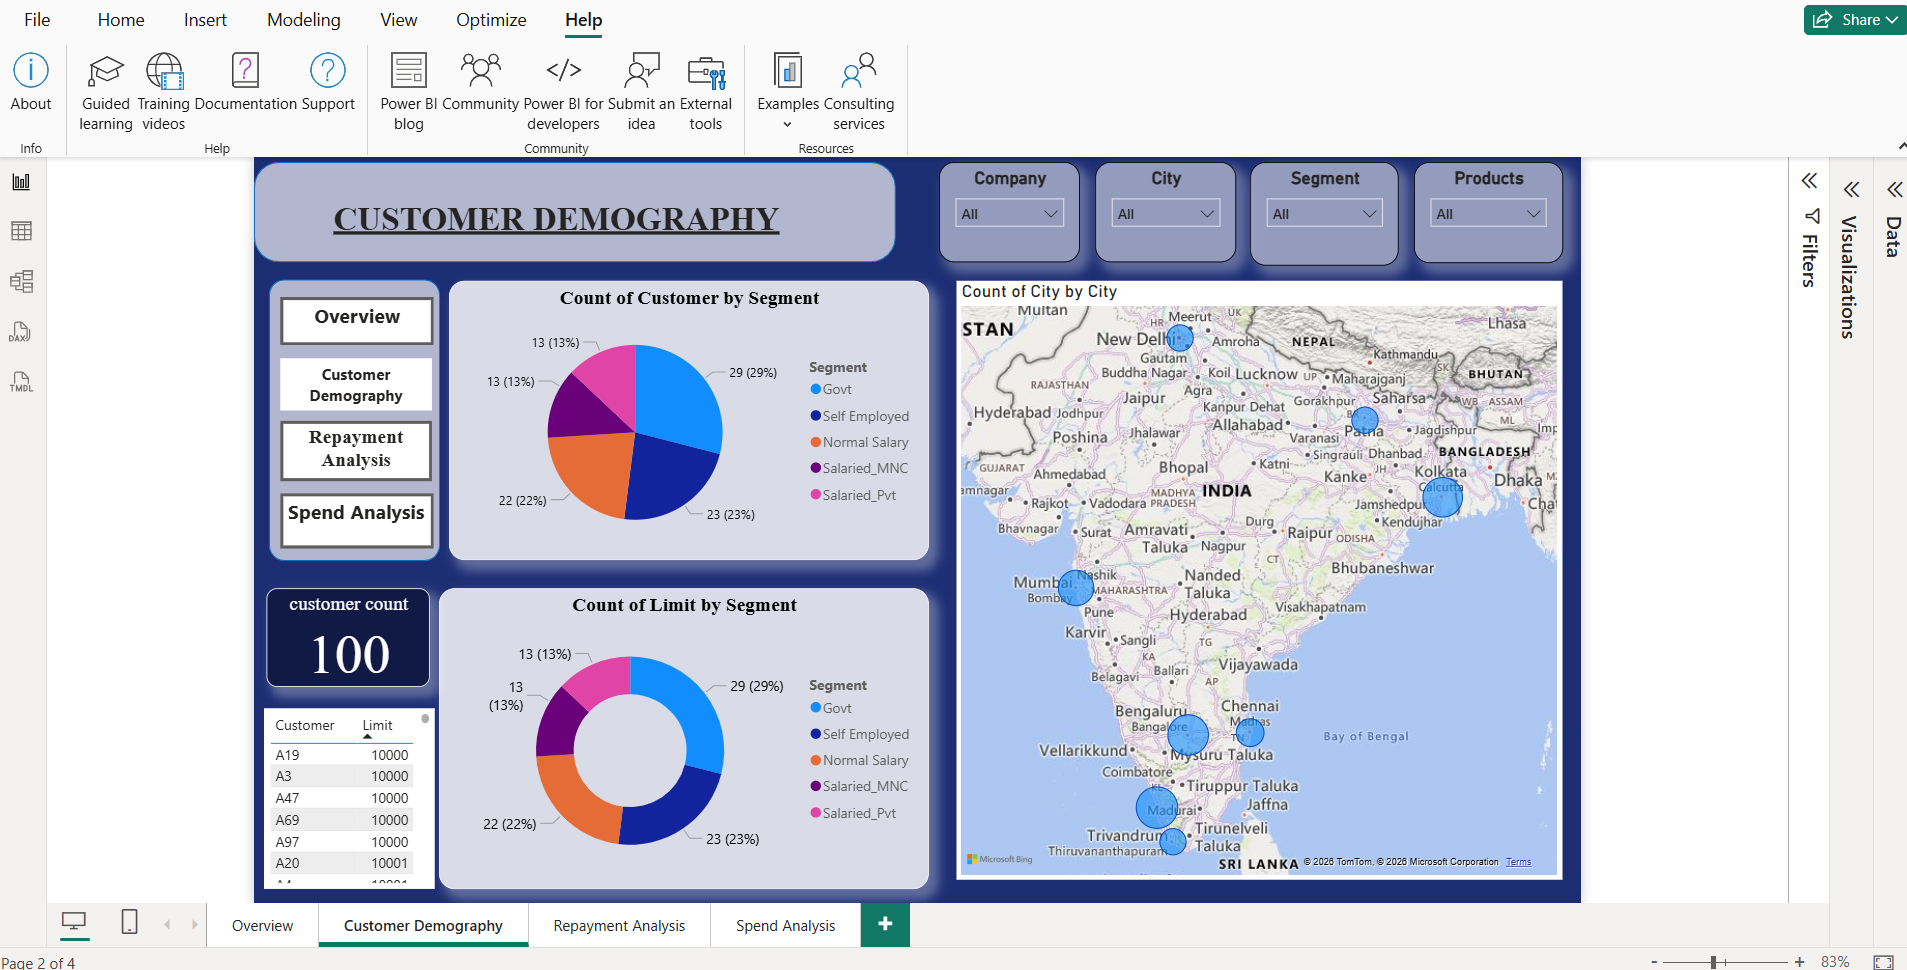

The dashboard page shown, as its layout file describes it:
{"tool":"powerbi","page":{"name":"Customer Demography","canvas":[1280,720],"ordinal":1},"visuals":[{"type":"slicer","title":"Segment","fields":{"Values":["Customer Acqusition.Segment"]},"box":[980.6,4.8,124.2,100],"z":0},{"type":"slicer","title":"Products","fields":{"Values":["Customer Acqusition.Product"]},"box":[1120,5,143.8,97.5],"z":1000},{"type":"card","title":"customer count","fields":{"Values":["Customer Acqusition.customer_count"]},"box":[12.1,416.4,157.5,95.4],"z":2000},{"type":"donutChart","fields":{"Y":["CountNonNull(Customer Acqusition.Limit)"],"Category":["Customer Acqusition.Segment"]},"box":[179,416.1,472.6,290.3],"z":3000},{"type":"shape","box":[0,4.8,619.4,96.8],"z":5000},{"type":"textbox","box":[0,17.7,583.9,71],"z":6000},{"type":"pieChart","fields":{"Category":["Customer Acqusition.Segment"],"Y":["CountNonNull(Customer Acqusition.Customer)"]},"box":[188.7,119.4,462.9,269.4],"z":7000},{"type":"shape","box":[15,118.3,165,271.7],"z":8000},{"type":"textbox","box":[25.1,194,146.5,50.7],"z":9000},{"type":"textbox","box":[25.1,254.6,146.5,57.7],"z":10000},{"type":"textbox","box":[25.3,324.9,146.9,53],"z":11000},{"type":"actionButton","box":[25,255,146.7,58.3],"z":12000},{"type":"textbox","box":[26.7,135,146.7,46.7],"z":13000},{"type":"actionButton","box":[25,325,148.3,53.3],"z":14000},{"type":"actionButton","box":[25,135,148.3,46.7],"z":15000},{"type":"slicer","title":"City","fields":{"Values":["Customer Acqusition.City"]},"box":[832.3,4.8,124.2,96.8],"z":16000},{"type":"tableEx","fields":{"Values":["Customer Acqusition.Customer","Customer Acqusition.Limit"]},"box":[9.1,531.5,165,174.1],"z":17000},{"type":"slicer","title":"Company","fields":{"Values":["Customer Acqusition.Company"]},"box":[691.9,4.8,124.2,96.8],"z":18000},{"type":"map","fields":{"Size":["CountNonNull(Customer Acqusition.City)"],"Category":["Customer Acqusition.City"]},"box":[692.5,119.4,570.6,522.4],"z":18001}]}

Visuals, with their boxes on the page's 1280x720 design canvas (x1, y1, x2, y2). These are canvas units, not pixel positions in the 1907x970 screenshot, which may show the page scaled, cropped or inside an application window:
"Segment" slicer: 981,5,1105,105
"Products" slicer: 1120,5,1264,102
"customer count" card: 12,416,170,512
donutChart - CountNonNull(Customer Acqusition.Limit) x Customer Acqusition.Segment: 179,416,652,706
shape: 0,5,619,102
textbox: 0,18,584,89
pieChart - Customer Acqusition.Segment x CountNonNull(Customer Acqusition.Customer): 189,119,652,389
shape: 15,118,180,390
textbox: 25,194,172,245
textbox: 25,255,172,312
textbox: 25,325,172,378
actionButton: 25,255,172,313
textbox: 27,135,173,182
actionButton: 25,325,173,378
actionButton: 25,135,173,182
"City" slicer: 832,5,956,102
tableEx - Customer Acqusition.Customer x Customer Acqusition.Limit: 9,532,174,706
"Company" slicer: 692,5,816,102
map - CountNonNull(Customer Acqusition.City) x Customer Acqusition.City: 692,119,1263,642
